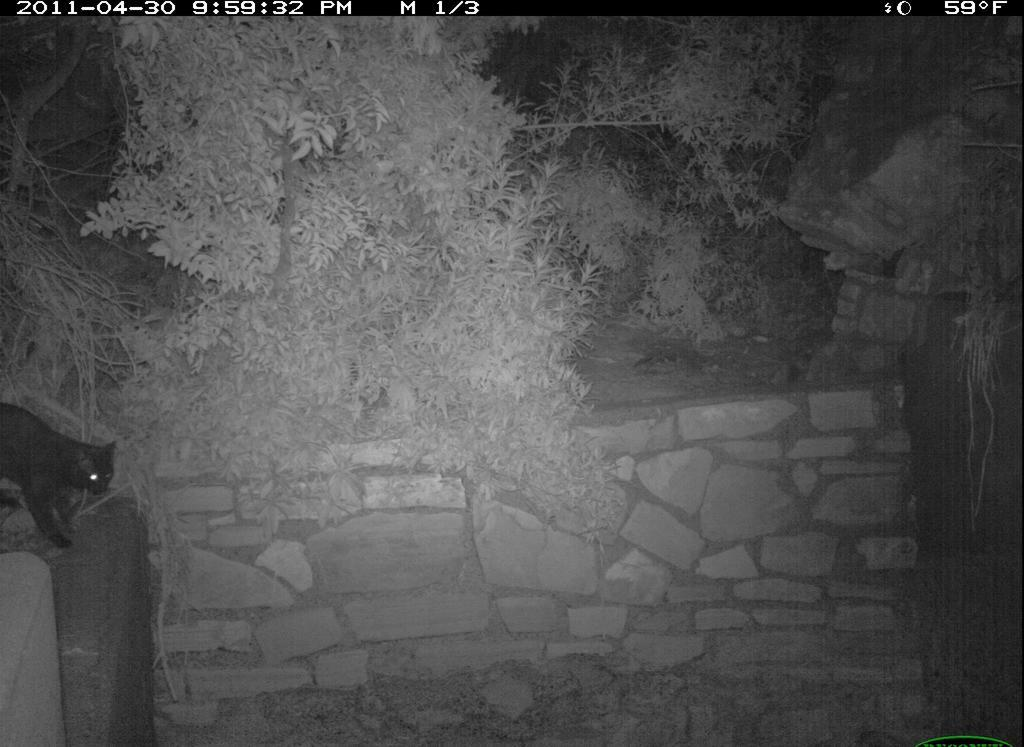cat: (2, 386, 152, 555)
